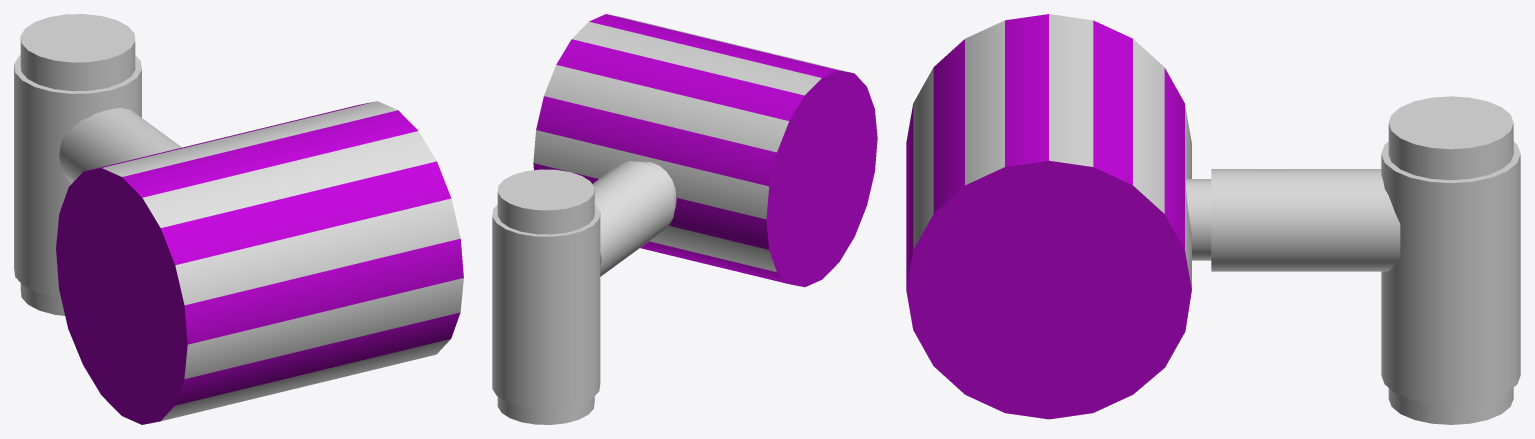
Rendered from martillo_id_mesh.fbx.
The picture shows the model from 3 angles, left to right: view 1: azimuth 30°, elevation 25°; view 2: azimuth 150°, elevation 25°; view 3: azimuth 270°, elevation 25°; orthographic projection. The views are drawn at different scales.
Parts seen in each view (by area): view 1: martillo, detalle_base, base, brazo; view 2: martillo, detalle_base, base, brazo; view 3: martillo, detalle_base, brazo, base, brazo1.
Boxes of the visible parts, x1=… form: martillo: x1=56, y1=101, x2=463, y2=424; detalle_base: x1=14, y1=55, x2=141, y2=296; base: x1=20, y1=14, x2=135, y2=315; brazo: x1=59, y1=107, x2=181, y2=183; martillo: x1=533, y1=14, x2=877, y2=287; detalle_base: x1=492, y1=204, x2=600, y2=409; base: x1=497, y1=169, x2=594, y2=424; brazo: x1=592, y1=161, x2=674, y2=276; martillo: x1=906, y1=14, x2=1191, y2=419; detalle_base: x1=1381, y1=141, x2=1520, y2=404; brazo: x1=1211, y1=169, x2=1400, y2=271; base: x1=1388, y1=96, x2=1513, y2=424; brazo1: x1=1186, y1=179, x2=1211, y2=260.
Bounding box in the file's own units: 1.11 × 1.1 × 1.98.
